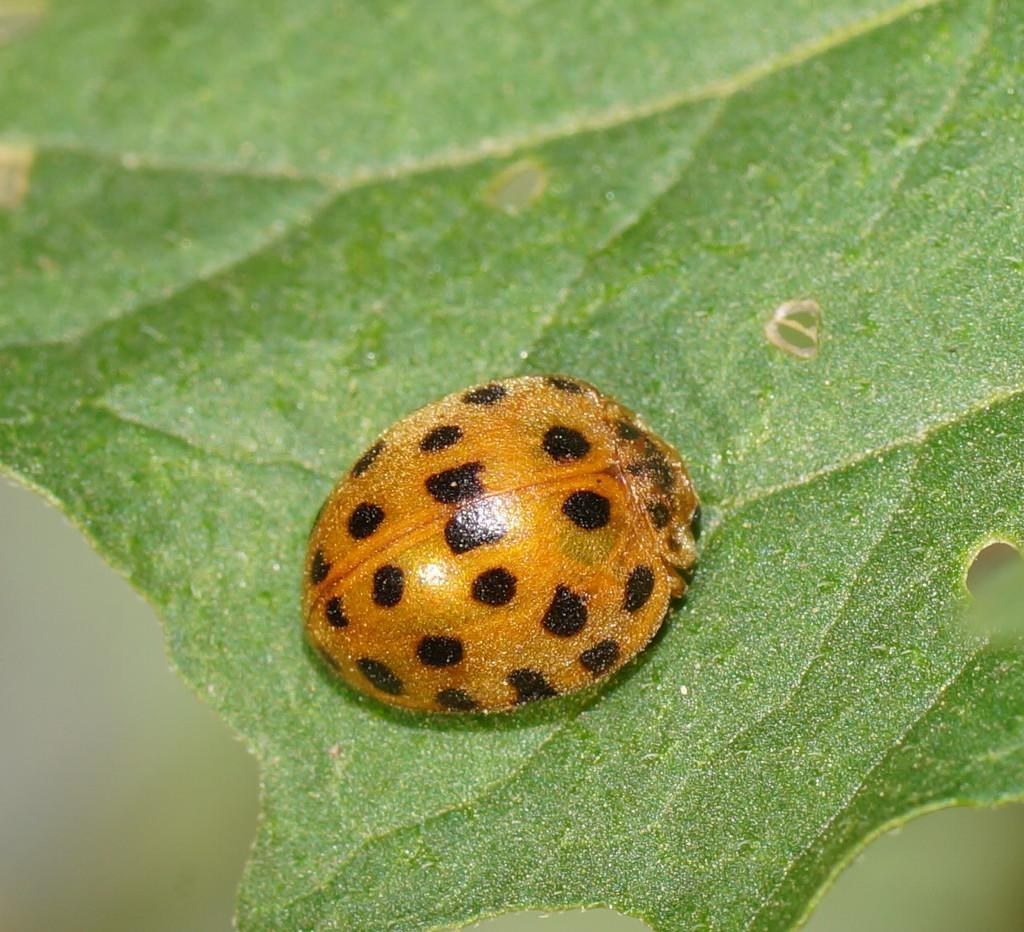ladybug: (294, 361, 724, 739)
